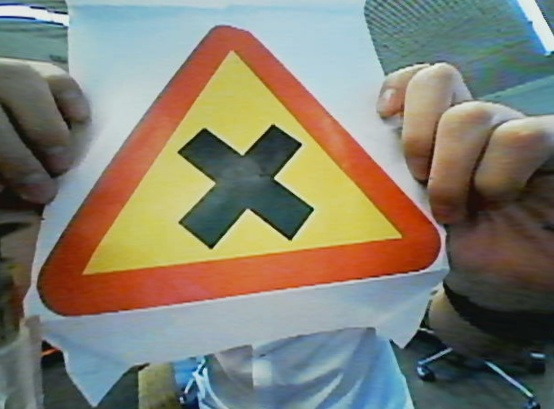junction: (19, 25, 455, 332)
